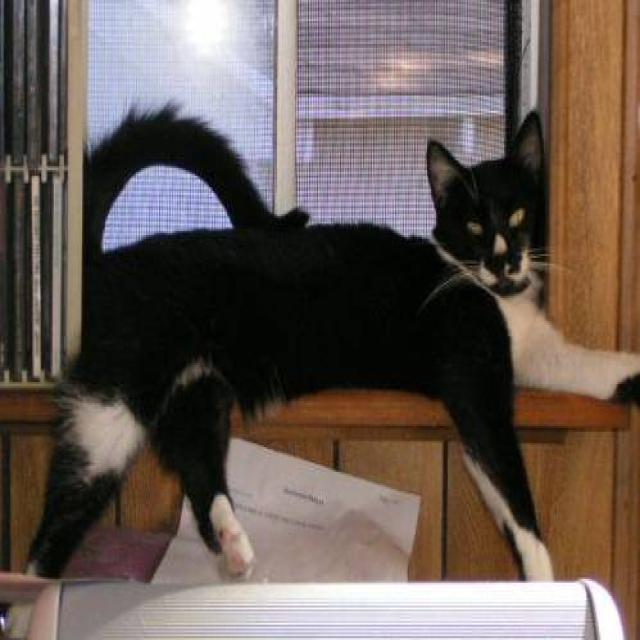cat: (17, 109, 569, 575)
